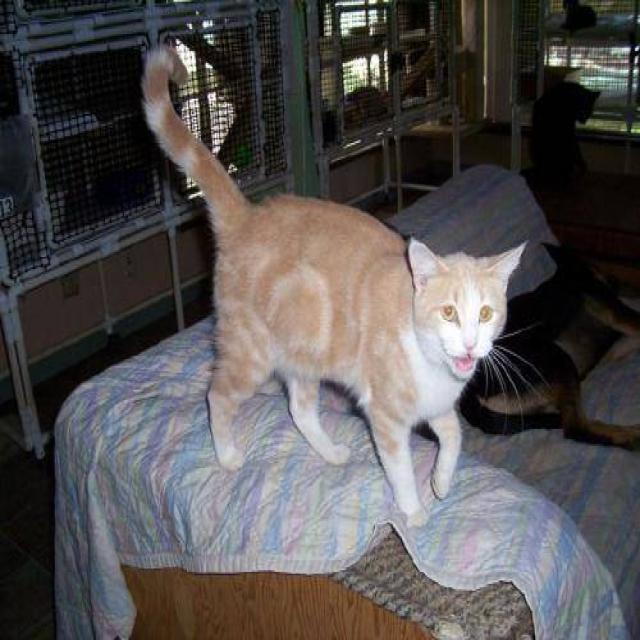cat: (138, 39, 552, 530)
